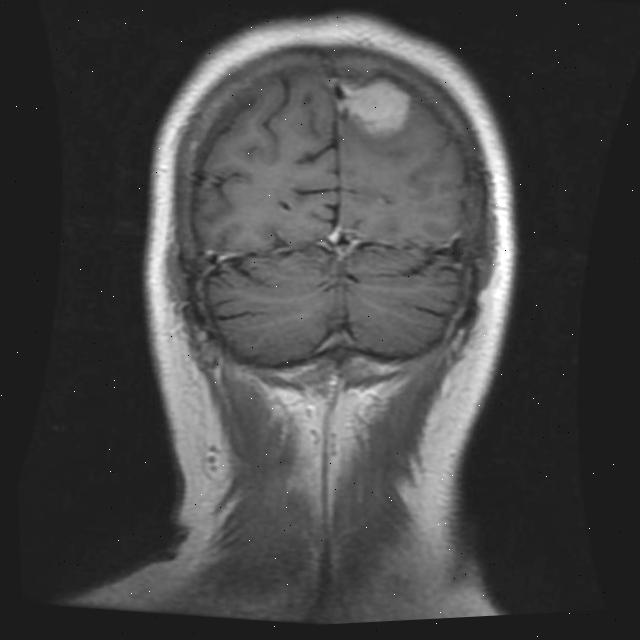Meningioma: (330, 68, 416, 144)
